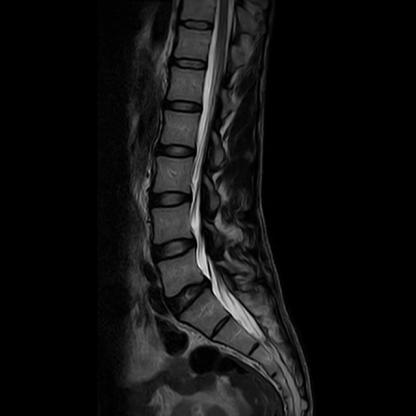Degenerative Disc Diseaserotation: (162, 278, 214, 310)
Disc Bulgerotation: (162, 278, 214, 310)
